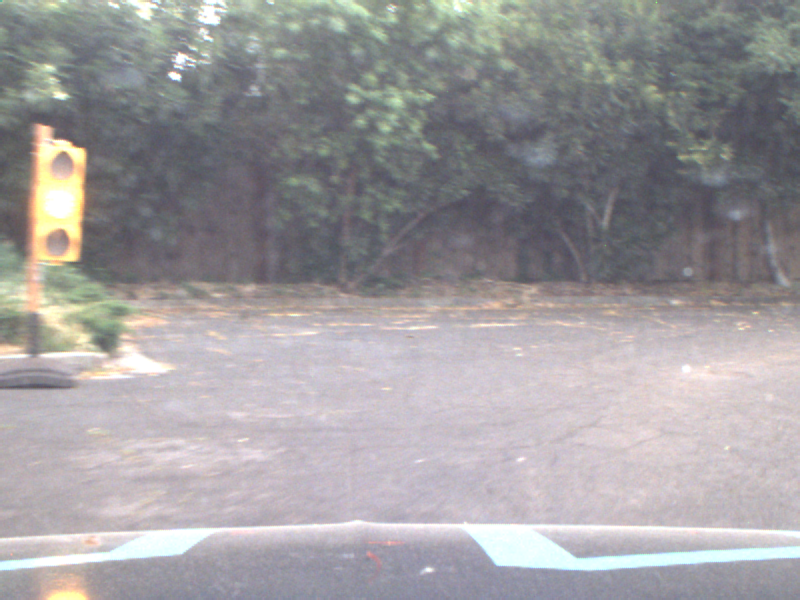Yellow: (32, 141, 80, 257)
